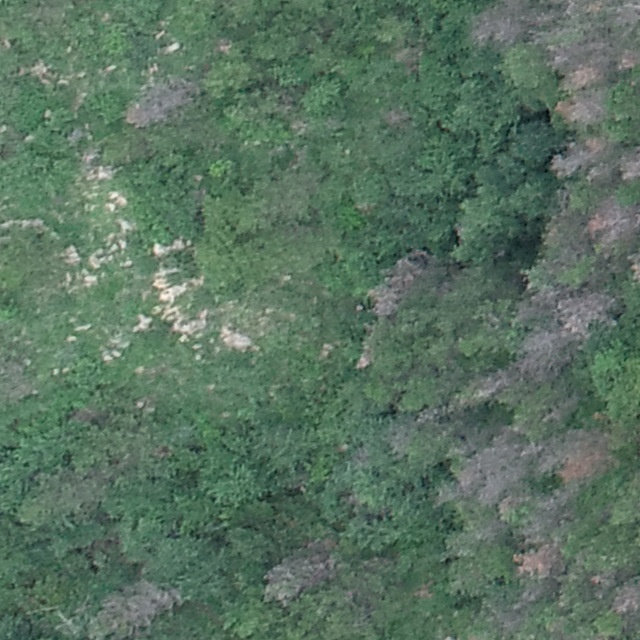unhealthy: (453, 433, 533, 501), (96, 582, 179, 640), (367, 247, 430, 316), (265, 544, 332, 605), (521, 481, 581, 540), (553, 427, 617, 481), (126, 82, 198, 128), (547, 38, 613, 86), (518, 329, 573, 382), (558, 291, 618, 339), (549, 138, 613, 181), (470, 0, 529, 45), (512, 544, 569, 582), (591, 200, 640, 240), (473, 365, 519, 404), (552, 95, 606, 126), (611, 580, 640, 615), (621, 146, 640, 181)
